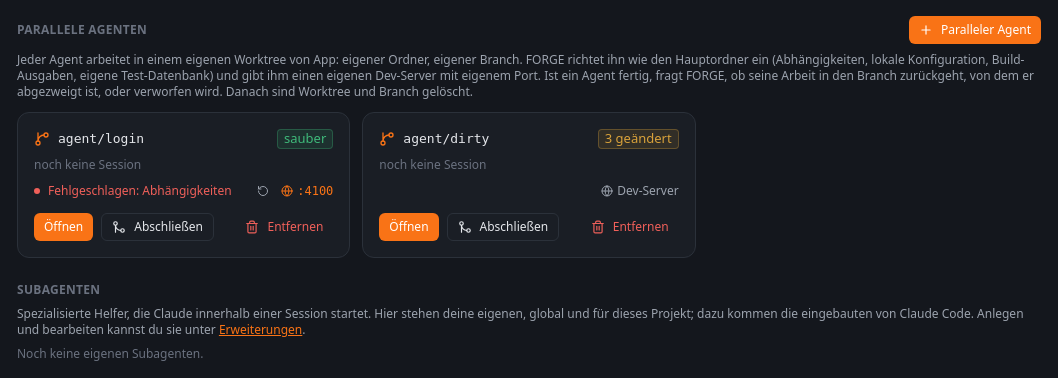
it: AgentsTab › shows how far each worktree is prepared and its own dev server, and repeats a failed preparation
Click the button named "Vorbereitung wiederholen". click: [263, 191]
box: 253,181 -> 273,201
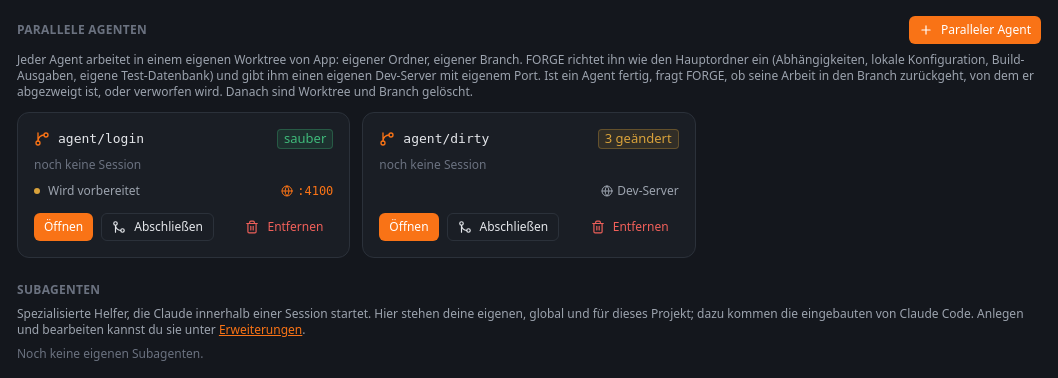
Now the text "Wird vorbereitet" is shown, box 48,182 -> 140,199
